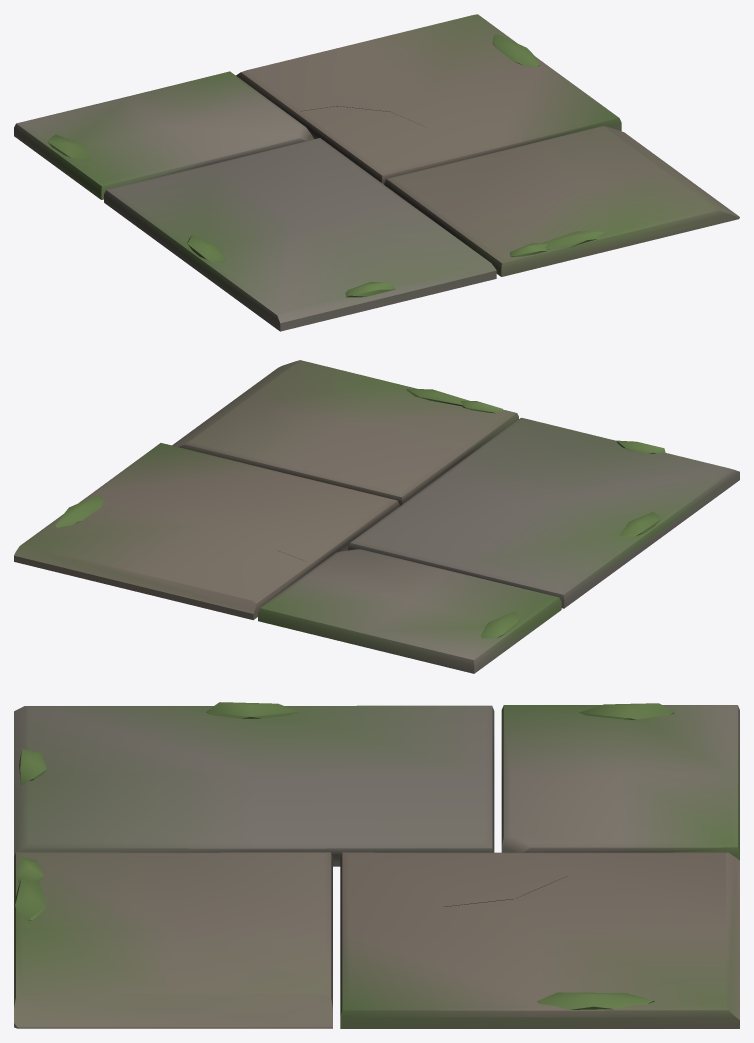
The model's file is ruins-floor-c-v3.glb.
3 renders of one model, top to bottom at view 1: azimuth 30°, elevation 25°; view 2: azimuth 150°, elevation 25°; view 3: azimuth 270°, elevation 25°, orthographic. The views are drawn at different scales.
Visible parts, largest first — view 1: 0_ruins_floor_c; view 2: 0_ruins_floor_c; view 3: 0_ruins_floor_c.
Part boxes in pixels (x1,y1,x2,y2): 0_ruins_floor_c: [14, 14, 739, 331]; 0_ruins_floor_c: [14, 360, 739, 673]; 0_ruins_floor_c: [14, 702, 739, 1028].
Size of the model in its own units: 1.98 by 0.0772 by 1.98.
